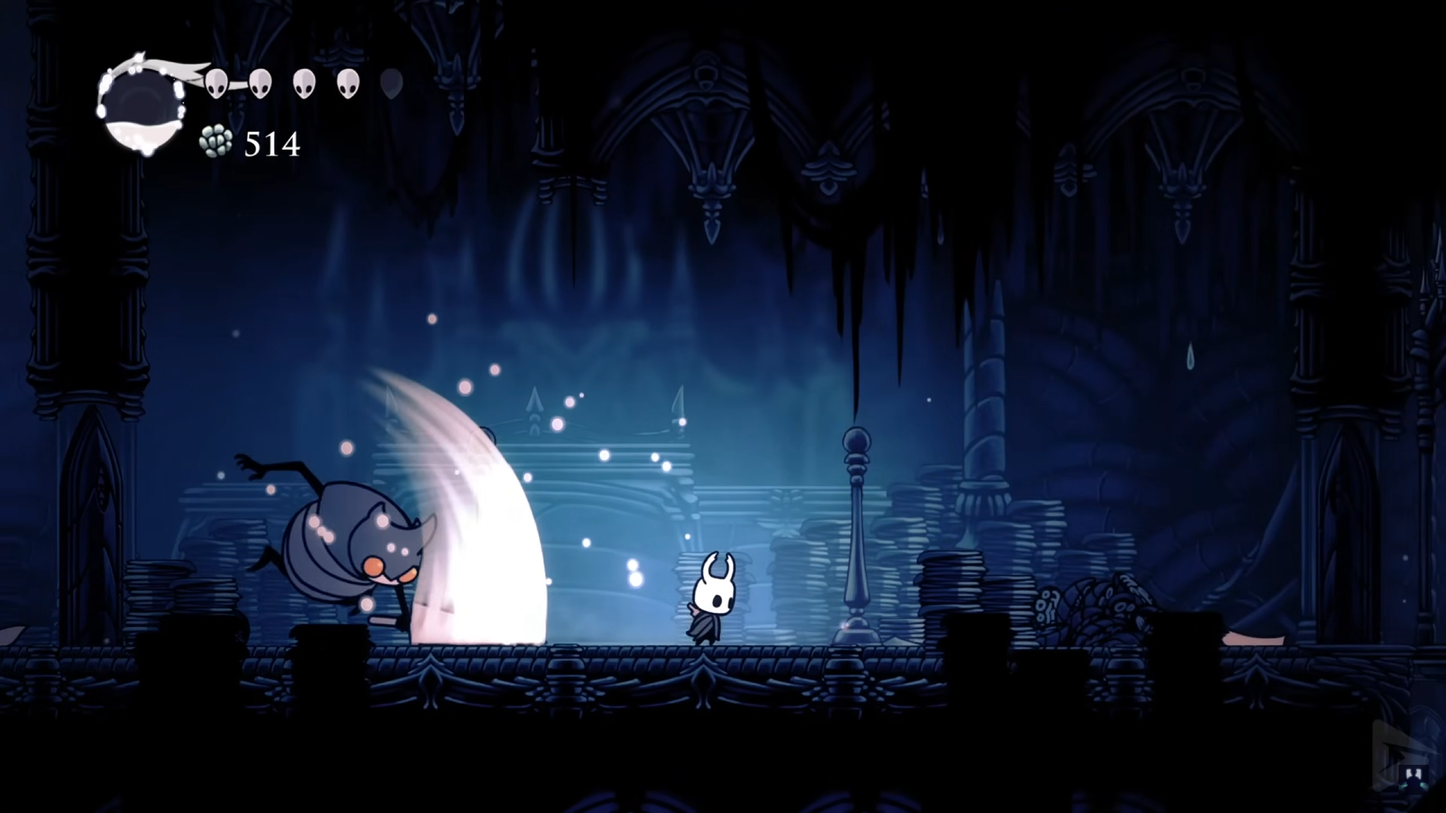HK: (677, 551, 743, 645)
